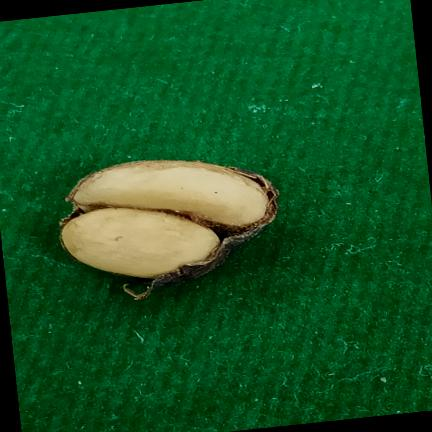husk: (60, 160, 278, 300)
